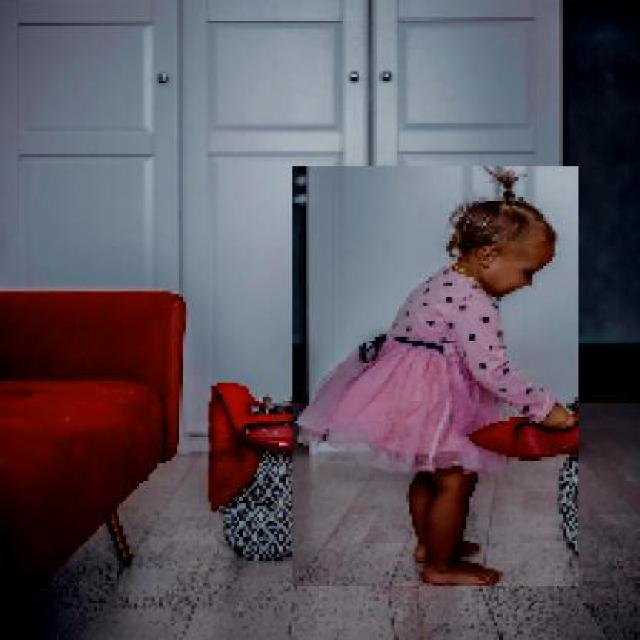child: (291, 166, 578, 588)
